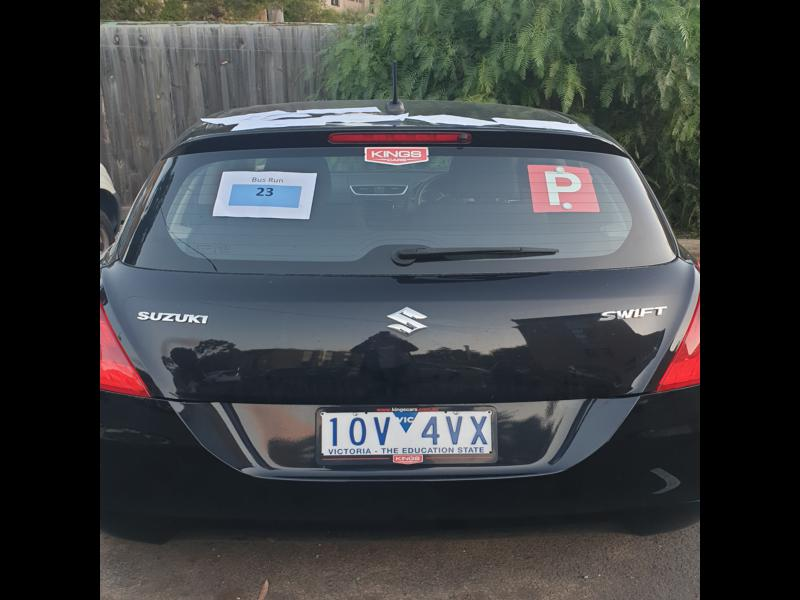BusRun: (226, 182, 303, 211)
PlateNo: (321, 412, 494, 455)
